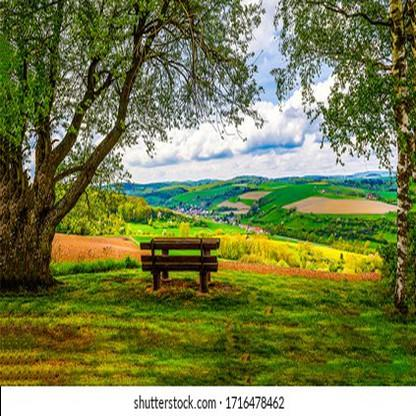obstacle: (140, 223, 228, 292)
